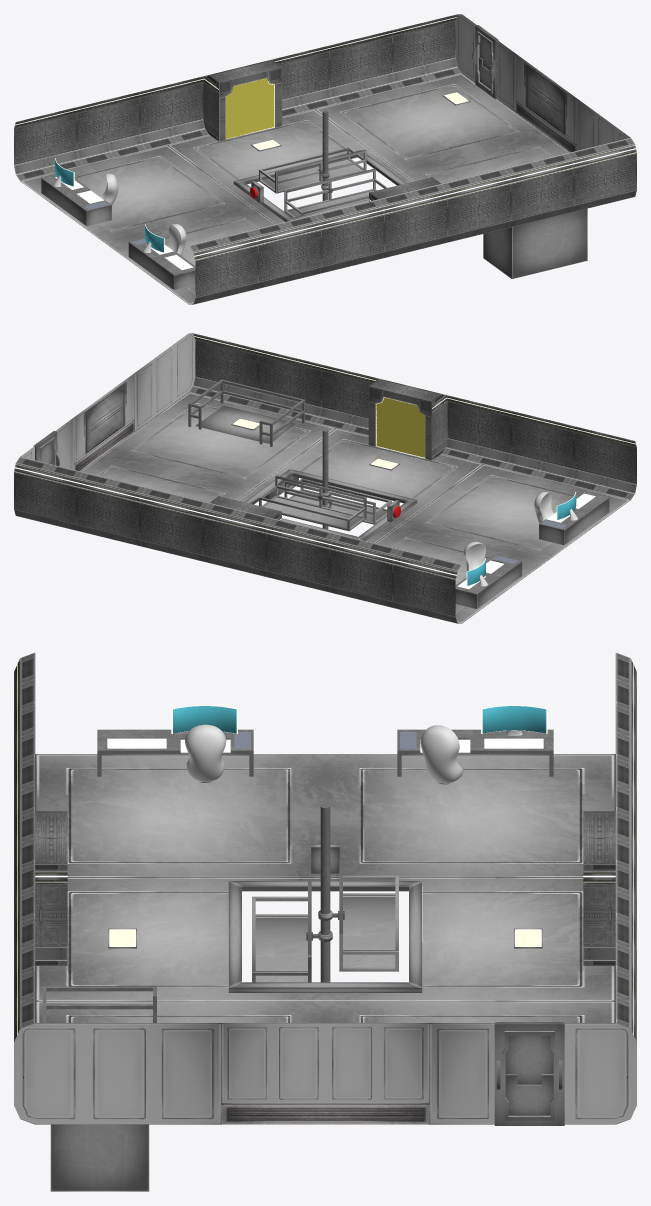
The model's file is BigRoom_2Floor.fbx.
3 renders of one model, top to bottom at view 1: azimuth 30°, elevation 25°; view 2: azimuth 150°, elevation 25°; view 3: azimuth 270°, elevation 25°, orthographic. The views are drawn at different scales.
Parts seen in each view (by area): view 1: Parede.002, Parede.001, Chao.003, Chao.001, Chao.002, TuboElevador, Parede.003, Porta.001, PortaHolograma, Elevador2, Janela.001, Mesa.001 (+8 smaller); view 2: Parede.001, Parede.002, Chao.003, Chao.001, Chao.002, Parede.003, Porta, Elevador2, PortaHolograma.004, Janela.001, Mesa.001, Parede.004 (+9 smaller); view 3: Chao.001, Chao.002, Parede.003, Parede.004, Chao.003, Parede.002, Parede.001, TuboElevador, Ornamento, Elevador2, Porta, Porta.001 (+12 smaller).
Boxes of the visible parts, x1,y1,x2,y2 form: Parede.002: [189, 137, 636, 304]; Parede.001: [14, 14, 461, 180]; Chao.003: [315, 73, 569, 183]; Chao.001: [20, 145, 275, 304]; Chao.002: [168, 109, 412, 224]; TuboElevador: [483, 208, 587, 278]; Parede.003: [455, 14, 630, 150]; Porta.001: [203, 60, 282, 141]; PortaHolograma: [225, 78, 274, 139]; Elevador2: [259, 147, 366, 193]; Janela.001: [524, 62, 567, 135]; Mesa.001: [128, 238, 195, 289]; Parede.001: [14, 456, 461, 623]; Parede.002: [189, 333, 636, 499]; Chao.003: [81, 392, 335, 502]; Chao.001: [375, 464, 630, 623]; Chao.002: [238, 428, 482, 543]; Parede.003: [20, 333, 195, 469]; Porta: [368, 379, 447, 460]; Elevador2: [259, 475, 366, 531]; PortaHolograma.004: [376, 397, 425, 458]; Janela.001: [83, 381, 126, 454]; Mesa.001: [539, 491, 609, 544]; Parede.004: [74, 373, 134, 471]; Chao.001: [35, 754, 615, 877]; Chao.002: [35, 877, 615, 1000]; Parede.003: [14, 1023, 636, 1124]; Parede.004: [221, 1023, 429, 1124]; Chao.003: [35, 1001, 615, 1022]; Parede.002: [14, 652, 35, 1124]; Parede.001: [615, 652, 636, 1124]; TuboElevador: [50, 1124, 149, 1191]; Ornamento: [228, 881, 422, 992]; Elevador2: [318, 859, 398, 971]; Porta: [35, 811, 67, 965]; Porta.001: [583, 811, 615, 965].
Bounding box in the file's own units: 4001 × 1157 × 2810.
